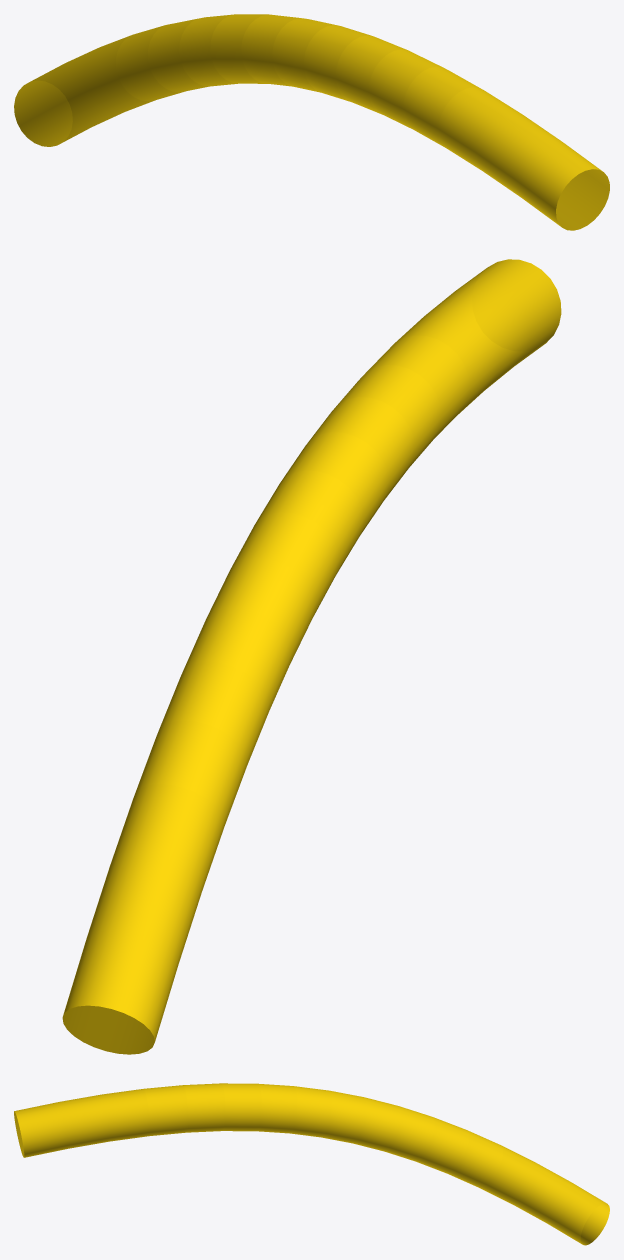
File: Event_420094457_track_83.fbx
The picture shows the model from 3 angles, top to bottom: view 1: azimuth 30°, elevation 25°; view 2: azimuth 150°, elevation 25°; view 3: azimuth 270°, elevation 25°; orthographic projection. The views are drawn at different scales.
Parts seen in each view (by area): view 1: Model; view 2: Model; view 3: Model.
Part boxes in pixels (box(x1,y1,x2,y2)): Model: box(14, 14, 609, 230); Model: box(62, 259, 561, 1054); Model: box(14, 1083, 609, 1245).
Size of the model in its own units: 0.1204 by 0.17 by 0.4975.
